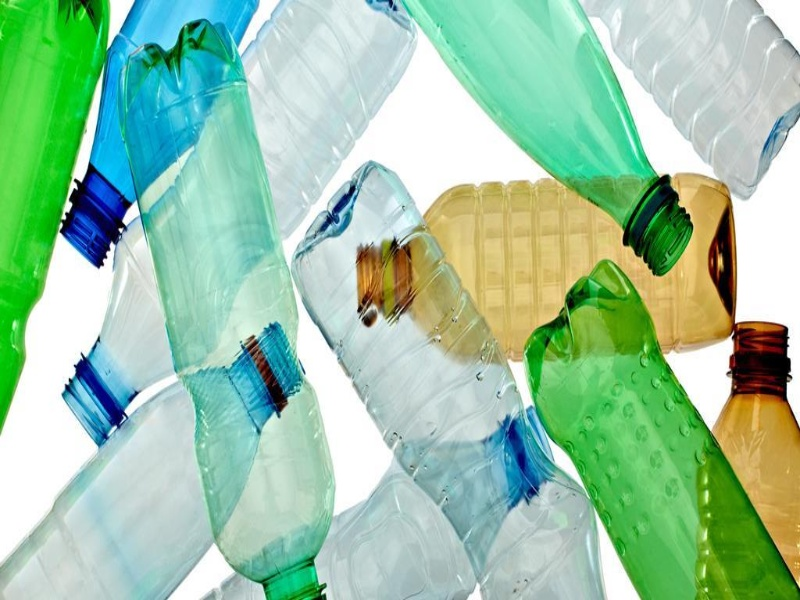Plastic_bottle_NonBioD: (1, 3, 796, 595)
